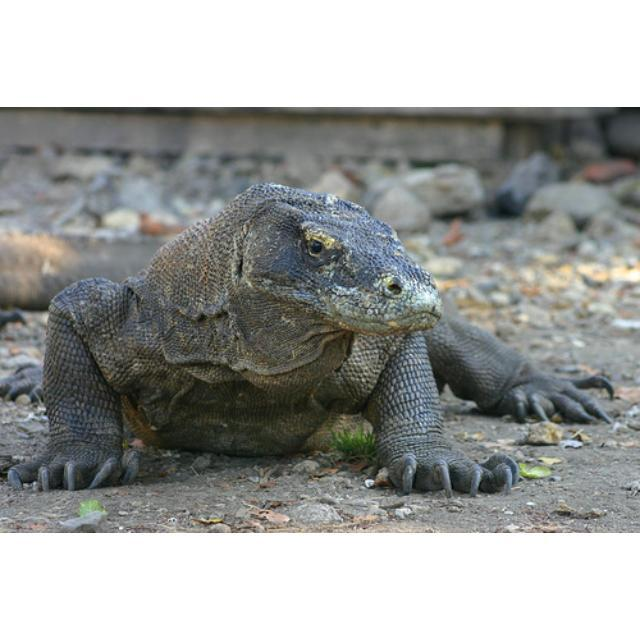KomodoDragon: (5, 178, 615, 496)
